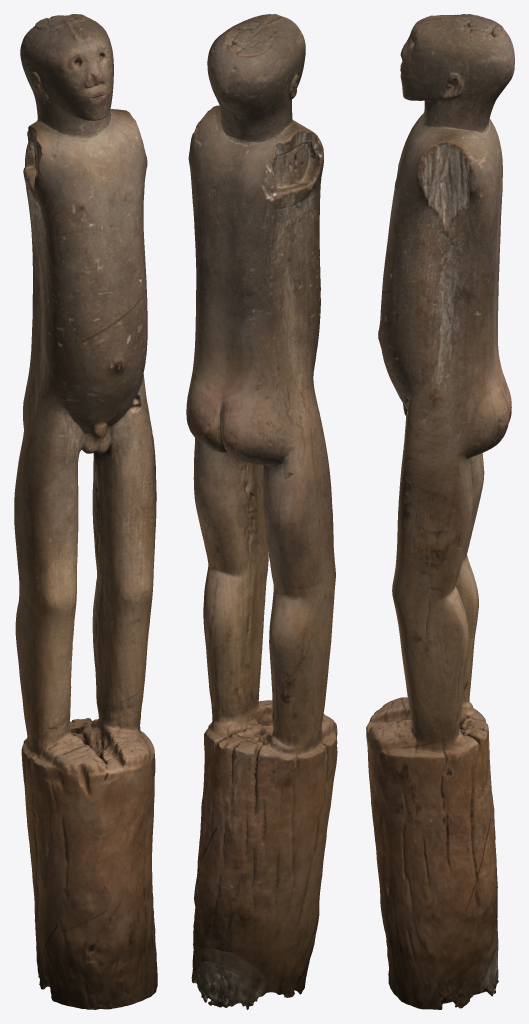
File: preview.glb
The picture shows the model from 3 angles, left to right: view 1: azimuth 30°, elevation 25°; view 2: azimuth 150°, elevation 25°; view 3: azimuth 270°, elevation 25°; orthographic projection.
Parts seen in each view (by area): view 1: Polygonal_Model_1_PG_1973_264_OB_BongoFigure_n3d; view 2: Polygonal_Model_1_PG_1973_264_OB_BongoFigure_n3d; view 3: Polygonal_Model_1_PG_1973_264_OB_BongoFigure_n3d.
Part boxes in pixels (x1,y1,x2,y2): Polygonal_Model_1_PG_1973_264_OB_BongoFigure_n3d: (14,14,157,1009); Polygonal_Model_1_PG_1973_264_OB_BongoFigure_n3d: (186,14,337,1009); Polygonal_Model_1_PG_1973_264_OB_BongoFigure_n3d: (366,14,514,1009).
Bounding box in the file's own units: 0.2583 × 1.92 × 0.2692.
Materials: 1 (1 with a texture image).
